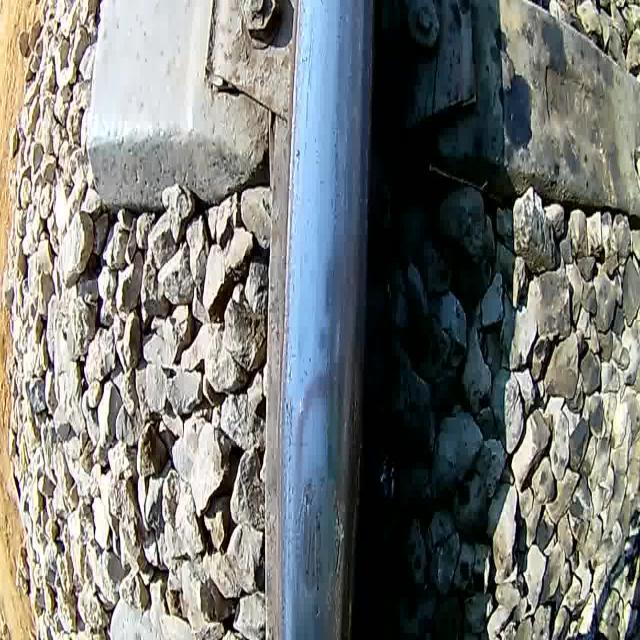Cracks: (332, 483, 348, 587)
Squats: (290, 477, 327, 596)
